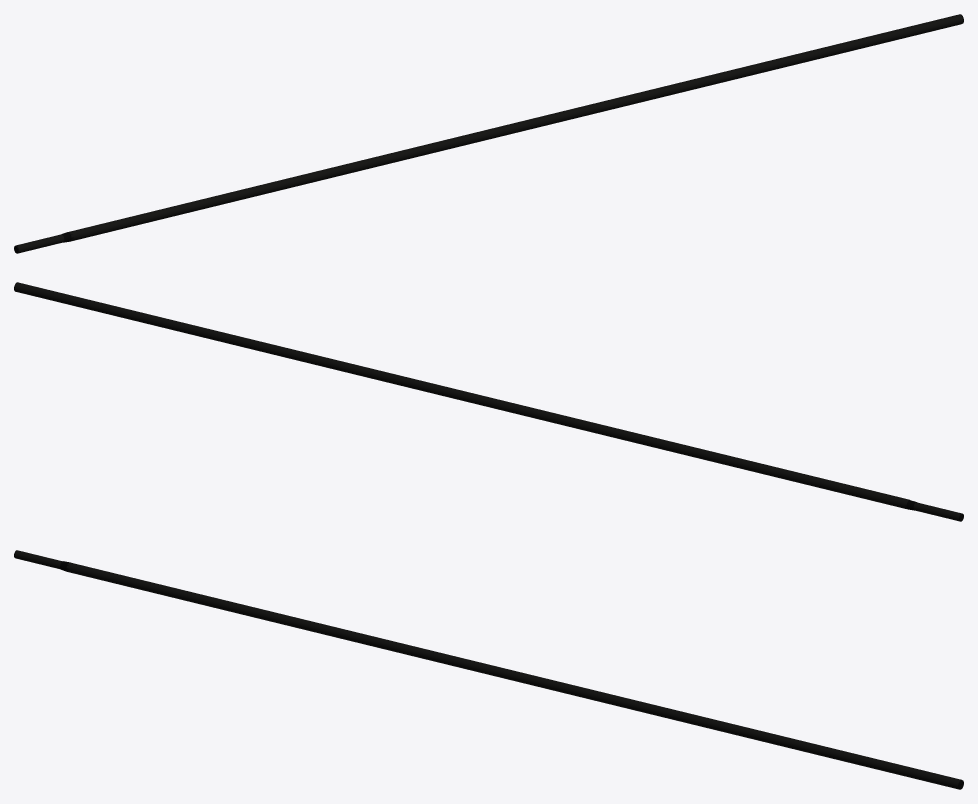
Rendered from racka_karnisz_70217157.glb.
3 views of the same model, one above another, from view 1: azimuth 30°, elevation 25°; view 2: azimuth 150°, elevation 25°; view 3: azimuth 330°, elevation 25° (orthographic).
Parts seen in each view (by area): view 1: racka_karnisz_70217157; view 2: racka_karnisz_70217157; view 3: racka_karnisz_70217157.
Boxes of the visible parts, x1,y1,x2,y2 form: racka_karnisz_70217157: [14, 14, 963, 253]; racka_karnisz_70217157: [14, 282, 963, 521]; racka_karnisz_70217157: [14, 550, 963, 789].
Bounding box in the file's own units: 2.1 × 0.0195 × 0.0193.
1 material, 1 textured.
